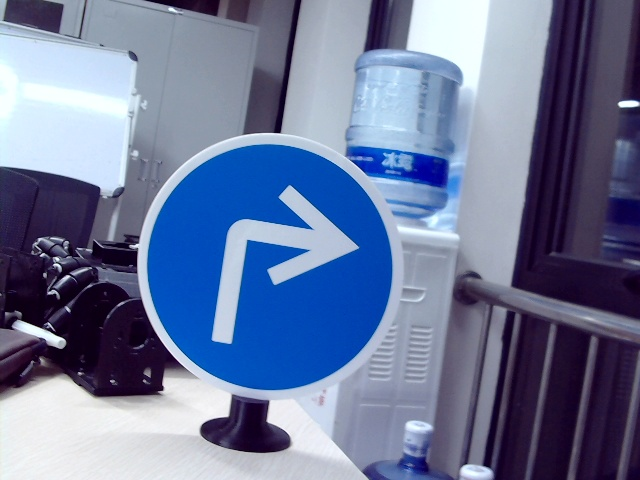turn_right: (203, 180, 357, 347)
